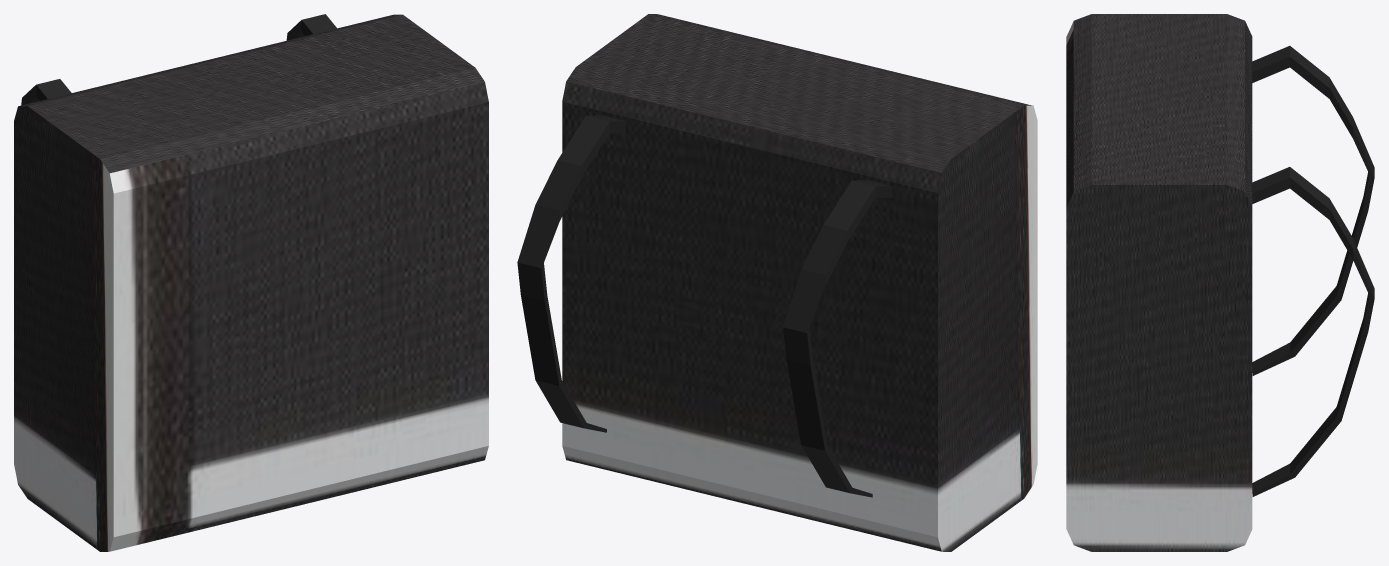
The model's file is Untitled_bag.glb.
The picture shows the model from 3 angles, left to right: view 1: azimuth 30°, elevation 25°; view 2: azimuth 150°, elevation 25°; view 3: azimuth 270°, elevation 25°; orthographic projection. The views are drawn at different scales.
Parts seen in each view (by area): view 1: Cube; view 2: Cube; view 3: Cube.
Boxes of the visible parts, box(x1,y1,x2,y2) form: Cube: box(14, 14, 488, 551); Cube: box(517, 14, 1037, 551); Cube: box(1066, 14, 1374, 551).
Size of the model in its own units: 2 by 2 by 1.52.
Materials: 2 (1 with a texture image).
